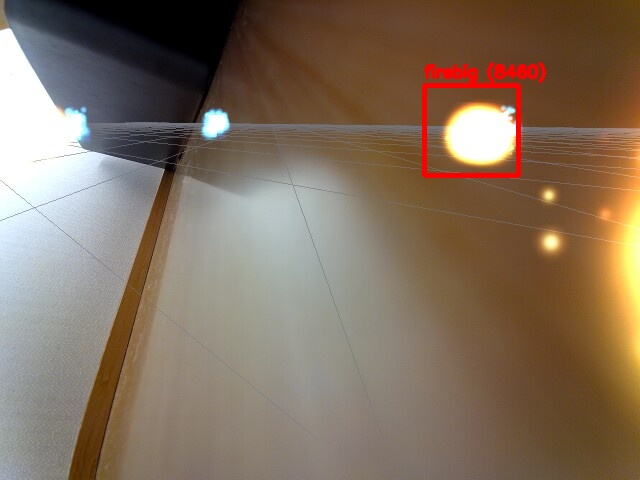firebig: (424, 85, 518, 175)
